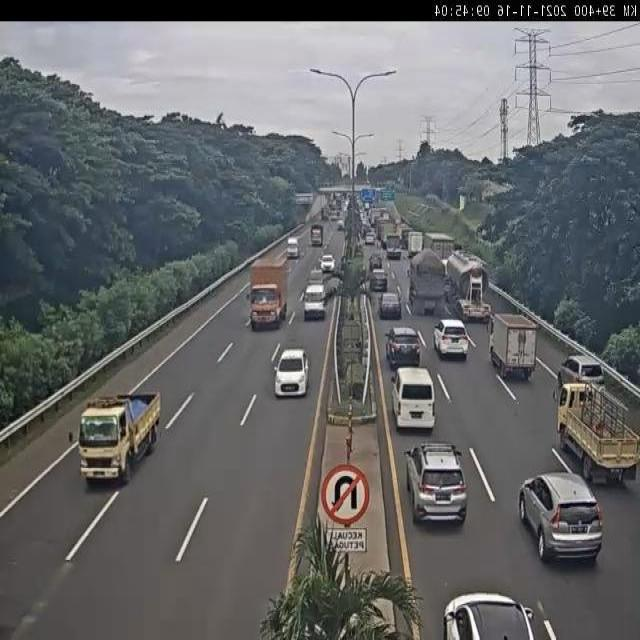Car: (518, 471, 604, 563), (404, 441, 468, 524), (440, 591, 540, 640), (274, 348, 312, 400), (384, 326, 421, 370), (559, 354, 604, 389), (434, 319, 470, 362), (303, 282, 326, 320), (379, 293, 402, 320), (369, 268, 387, 292), (308, 268, 324, 291), (286, 237, 300, 259), (310, 224, 323, 247), (320, 254, 336, 272), (369, 253, 383, 272)
Truck: (69, 386, 164, 486), (551, 381, 640, 483), (487, 311, 537, 378), (448, 252, 491, 320), (248, 256, 289, 327), (410, 250, 446, 316)
Van: (391, 366, 437, 432)
